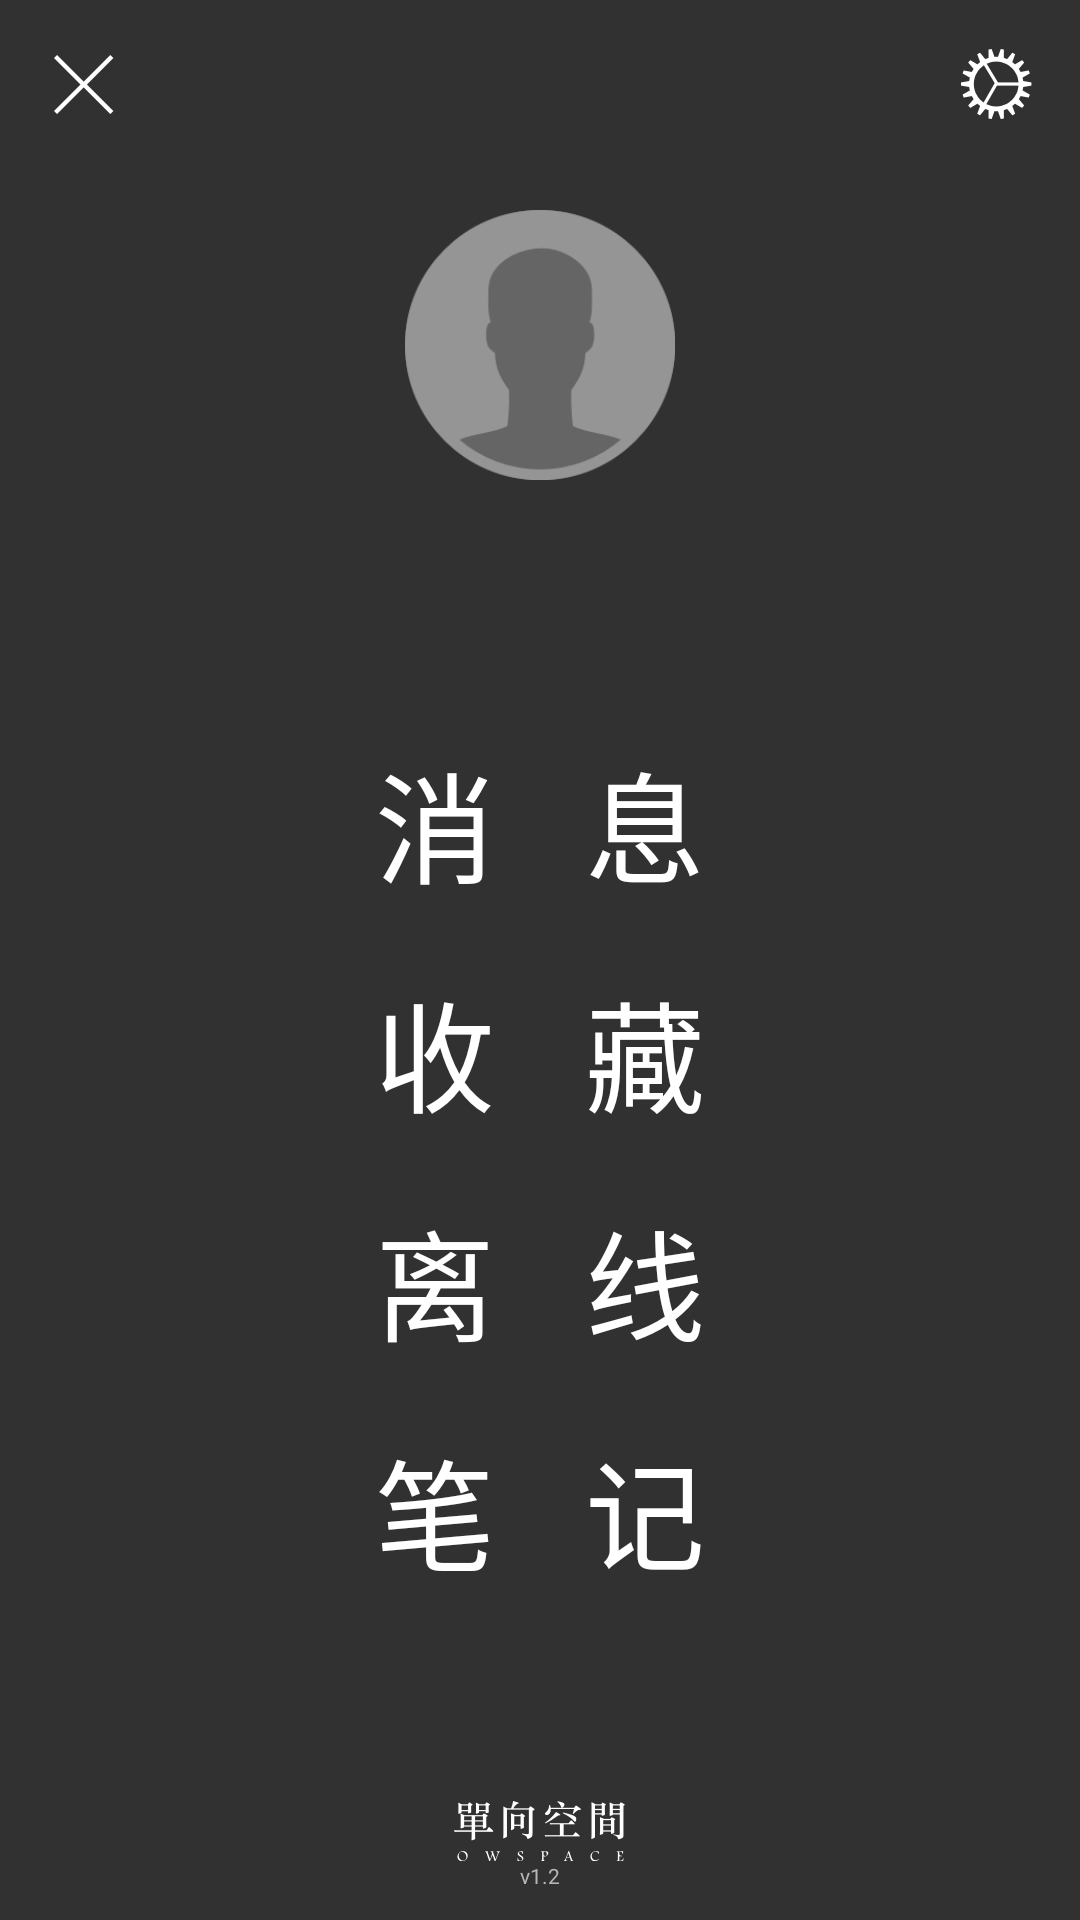

Icon bounding boxes for this 1080x1920 phone screenshot, format rect(x1, y1, x2, y2):
avater: rect(405, 210, 675, 480)
setting: rect(961, 49, 1032, 119)
